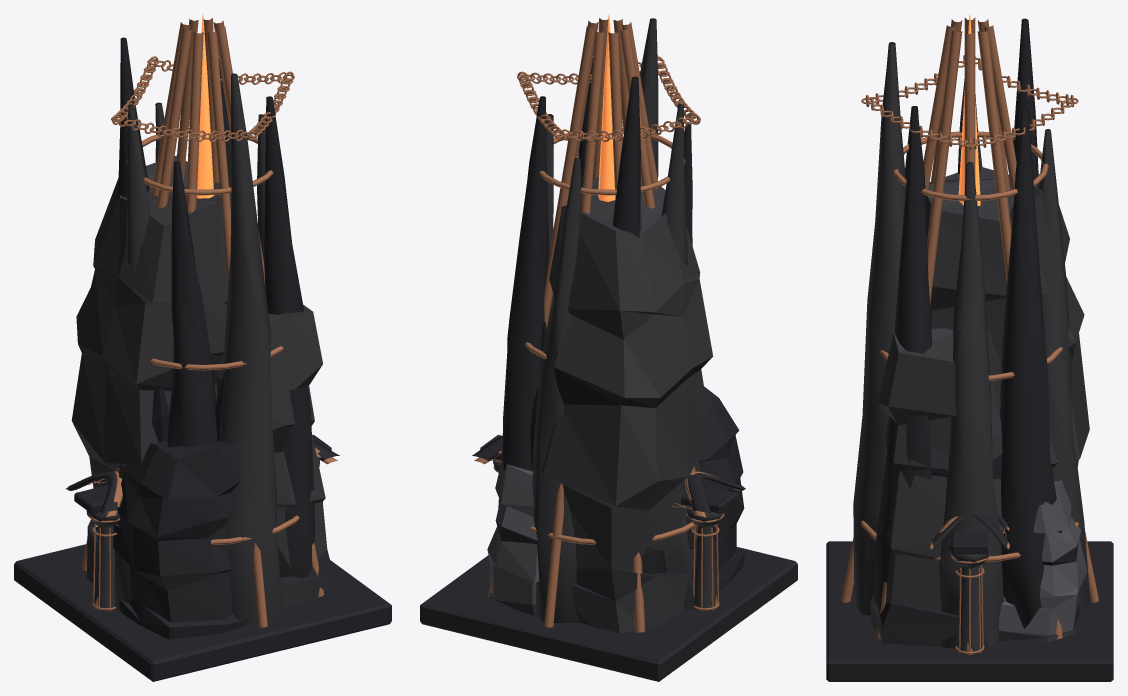
Rendered from ember_abyss.glb.
3 views of the same model, side by side, from view 1: azimuth 30°, elevation 25°; view 2: azimuth 150°, elevation 25°; view 3: azimuth 270°, elevation 25° (orthographic). The views are drawn at different scales.
Visible parts, largest first — view 1: Watchtower_dark, Rock_stone, Watchtower_stone, Rock_dark, Watchtower_metal, Gate_stone, Gate_dark, Watchtower_glow, Landmark, Gate_metal; view 2: Rock_stone, Watchtower_dark, Watchtower_metal, Watchtower_stone, Rock_dark, Rock_pale, Gate_dark, Gate_stone, Watchtower_glow, Gate_metal; view 3: Watchtower_dark, Watchtower_stone, Rock_stone, Watchtower_metal, Rock_pale, Rock_dark, Gate_stone, Gate_dark, Gate_metal, Watchtower_glow.
Part boxes in pixels (left/top/right/bottom): Watchtower_dark: left=14, top=37, right=391, bottom=681; Rock_stone: left=71, top=155, right=333, bottom=606; Watchtower_stone: left=114, top=73, right=282, bottom=627; Rock_dark: left=78, top=344, right=333, bottom=639; Watchtower_metal: left=81, top=18, right=324, bottom=627; Gate_stone: left=86, top=459, right=319, bottom=610; Gate_dark: left=66, top=435, right=339, bottom=514; Watchtower_glow: left=196, top=14, right=214, bottom=198; Landmark: left=152, top=371, right=225, bottom=441; Gate_metal: left=68, top=448, right=337, bottom=611; Rock_stone: left=532, top=176, right=713, bottom=633; Watchtower_dark: left=420, top=58, right=797, bottom=681; Watchtower_metal: left=487, top=18, right=718, bottom=632; Watchtower_stone: left=532, top=18, right=699, bottom=622; Rock_dark: left=486, top=357, right=744, bottom=615; Rock_pale: left=487, top=461, right=539, bottom=609; Gate_dark: left=472, top=435, right=745, bottom=514; Gate_stone: left=493, top=459, right=725, bottom=611; Watchtower_glow: left=598, top=14, right=615, bottom=201; Gate_metal: left=474, top=450, right=743, bottom=611; Watchtower_dark: left=826, top=18, right=1113, bottom=681; Watchtower_stone: left=853, top=42, right=1090, bottom=648; Rock_stone: left=870, top=167, right=1089, bottom=646; Watchtower_metal: left=841, top=17, right=1098, bottom=654; Rock_pale: left=999, top=480, right=1087, bottom=642; Rock_dark: left=853, top=343, right=1080, bottom=641; Gate_stone: left=948, top=542, right=989, bottom=654; Gate_dark: left=932, top=514, right=1007, bottom=554; Gate_metal: left=930, top=516, right=1009, bottom=655; Watchtower_glow: left=958, top=14, right=980, bottom=205.
Bounding box in the file's own units: 12 × 28.6 × 12.
